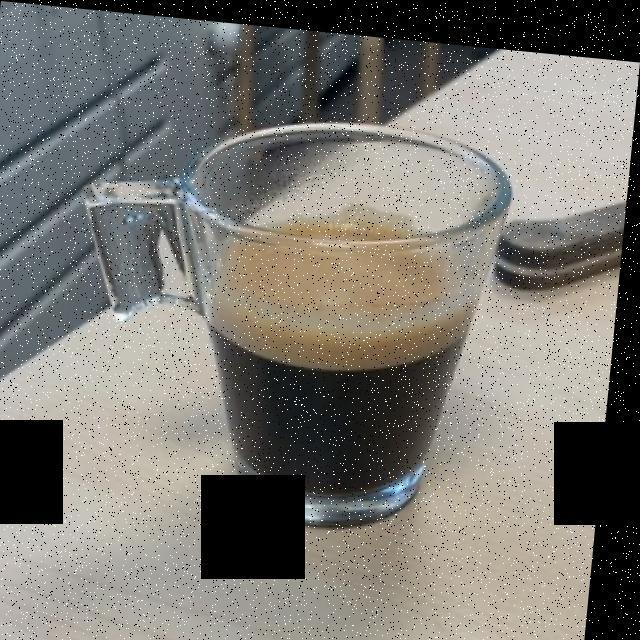espresso: (201, 194, 476, 487)
